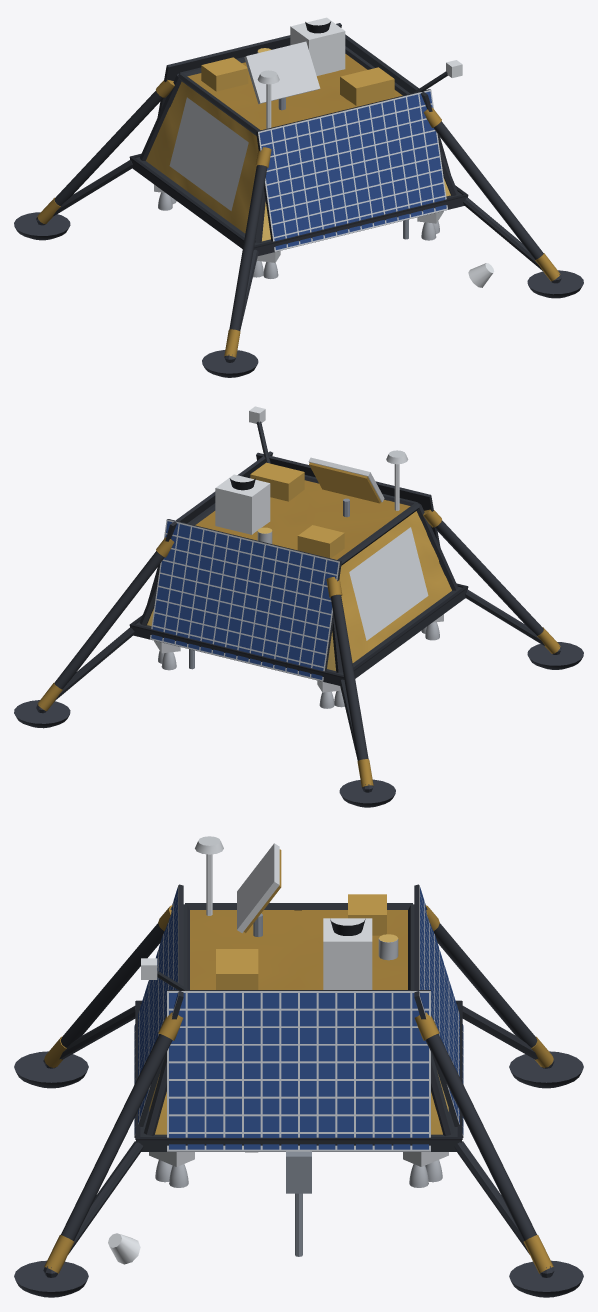
The model's file is blue-ghost.glb.
3 views of the same model, one above another, from view 1: azimuth 30°, elevation 25°; view 2: azimuth 150°, elevation 25°; view 3: azimuth 270°, elevation 25° (orthographic). The views are drawn at different scales.
Visible parts, largest first — view 1: body, solar-panel, foil; view 2: body, solar-panel, foil; view 3: body, solar-panel, foil.
Boxes of the visible parts, x1,y1,x2,y2 form: body: (14,17,583,377); solar-panel: (259,91,446,249); foil: (37,48,560,357); body: (14,406,583,807); solar-panel: (151,521,338,679); foil: (37,462,560,787); body: (14,836,583,1297); solar-panel: (134,887,463,1149); foil: (44,849,553,1273).
Bounding box in the file's own units: 3.5 × 2.07 × 3.5.
